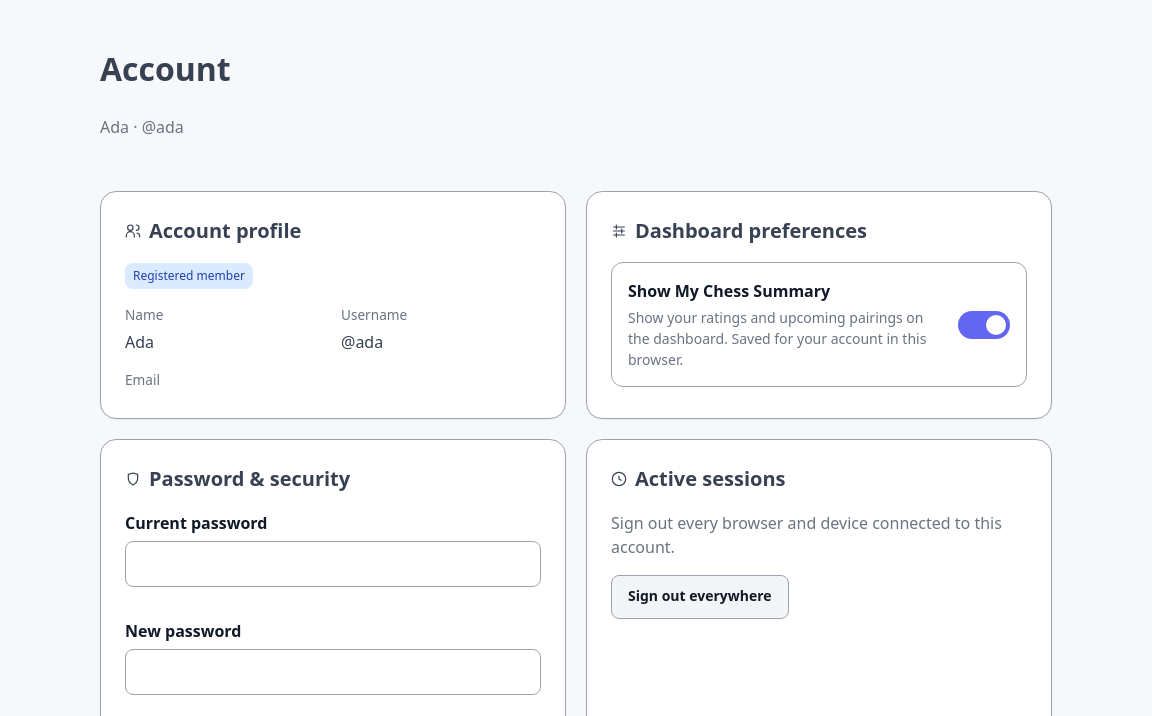
announces password errors and keeps the account form available
This screenshot has width=1152, height=716.
Check: the heading "Account" is shown, box [100,47,231,90]
In the password field labelled "Current password": (333, 564) [125,541,541,587], type "old-password"
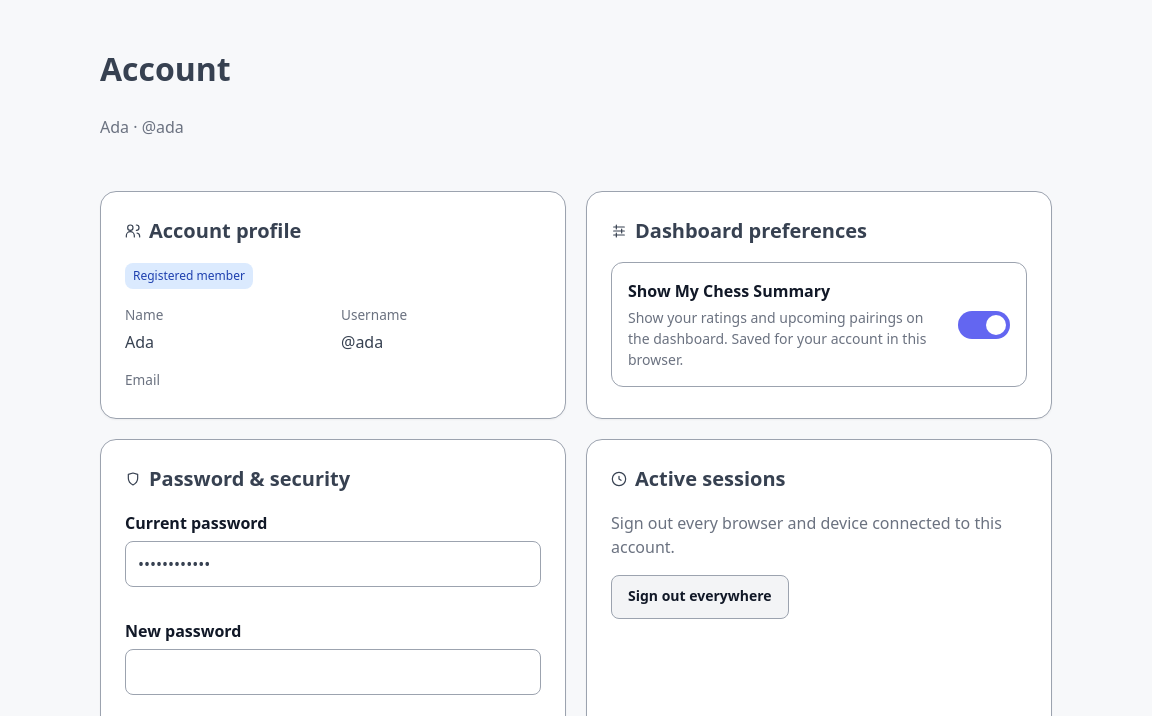
In the password field labelled "New password": (333, 672) [125,649,541,695], type "new-password"
(page scrolled)
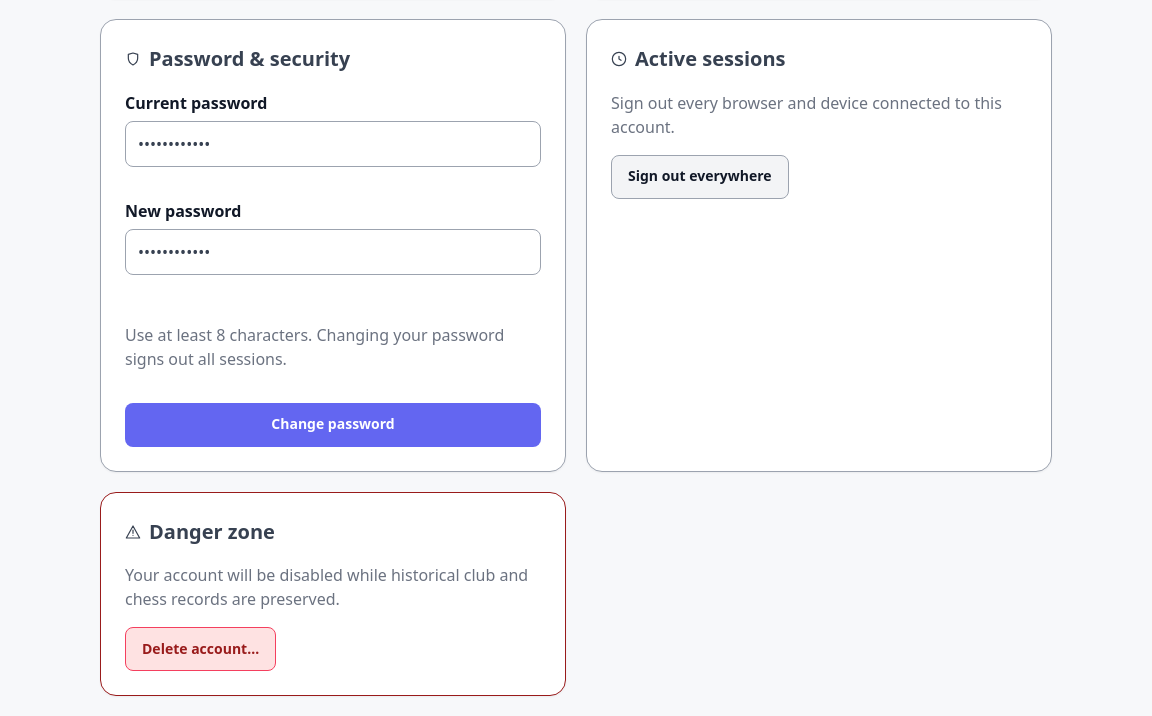
Click the button "Change password": click(333, 425) [125,403,541,447]
(page scrolled)
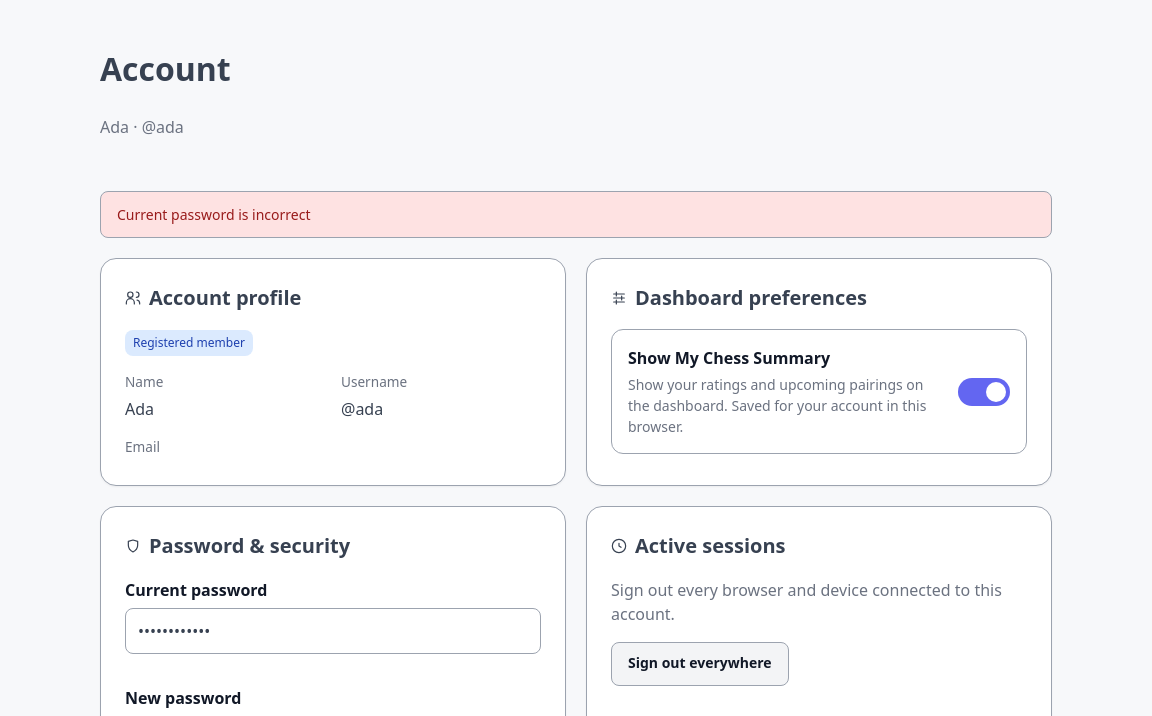
Check: the heading "Account" is shown, box [100,47,231,90]
Check: the message reads "Current password is incorrect", box [117,205,310,224]
